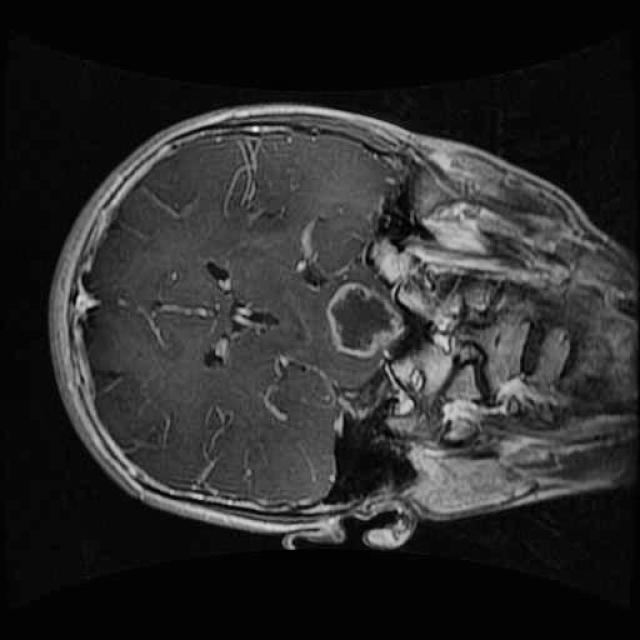Tumor: (316, 263, 416, 369)
